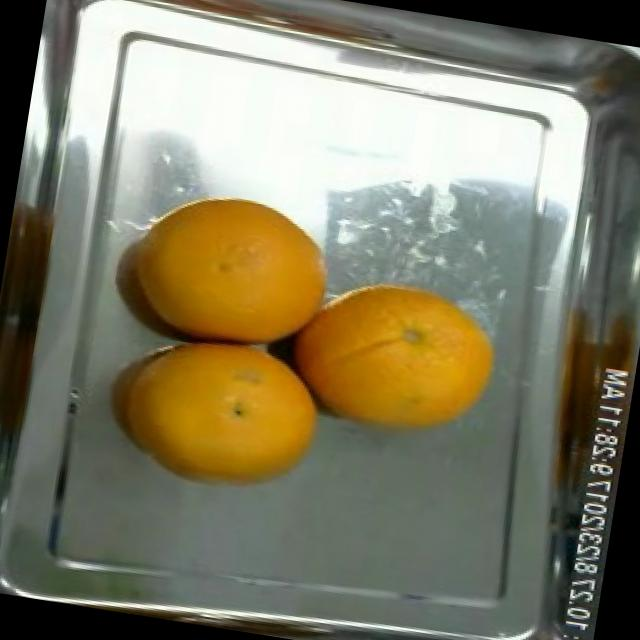Fruit: (128, 170, 364, 376), (124, 327, 347, 513)
